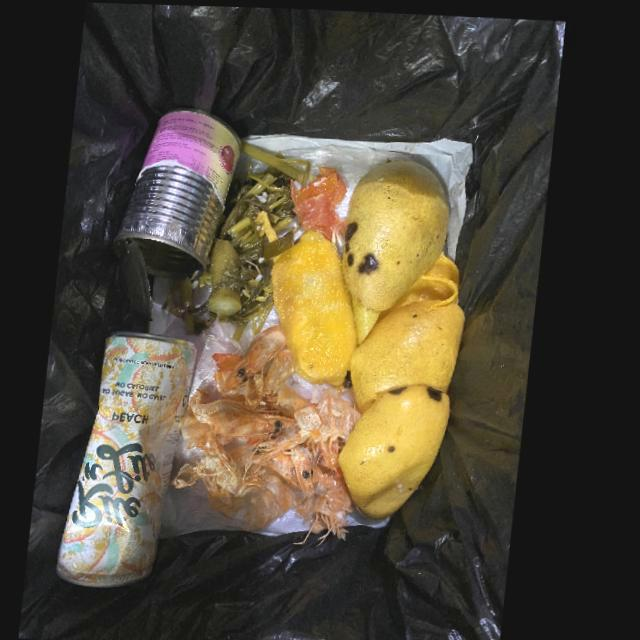aluminum: (66, 328, 205, 585), (116, 105, 243, 311)
left_over_food: (182, 322, 369, 543), (293, 164, 351, 252), (219, 322, 293, 390)
